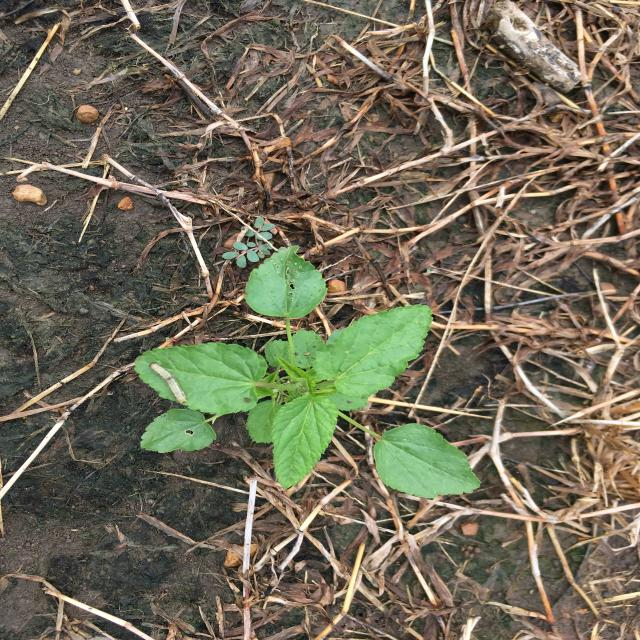PricklySida: (135, 244, 482, 498)
SpottedSpurge: (222, 216, 276, 268)
